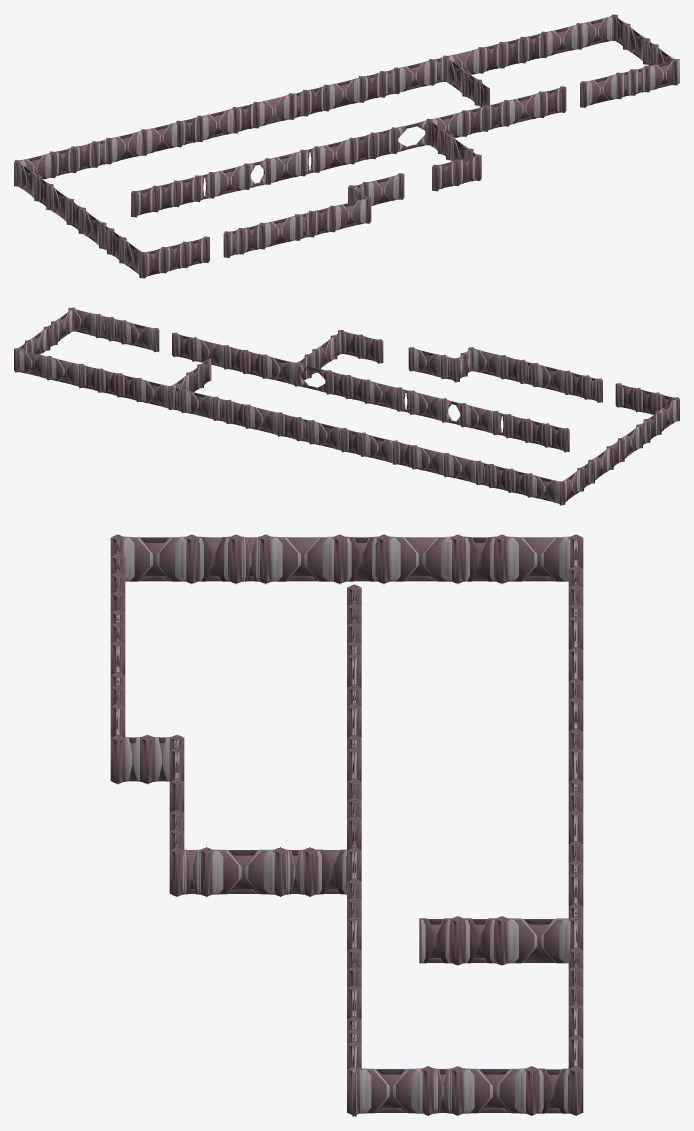
The model's file is levelb.fbx.
The picture shows the model from 3 angles, top to bottom: view 1: azimuth 30°, elevation 25°; view 2: azimuth 150°, elevation 25°; view 3: azimuth 270°, elevation 25°; orthographic projection. The views are drawn at different scales.
Visible parts, largest first — view 1: LevelB; view 2: LevelB; view 3: LevelB.
Boxes of the visible parts, bbox=[...] form: LevelB: bbox=[14, 14, 679, 278]; LevelB: bbox=[14, 307, 679, 505]; LevelB: bbox=[110, 534, 583, 1116].
Size of the model in its own units: 17200 by 649 by 6380.
